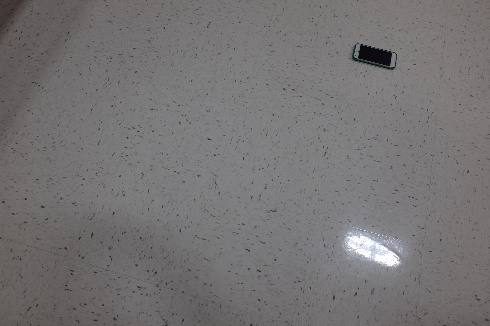phone: (350, 39, 399, 71)
